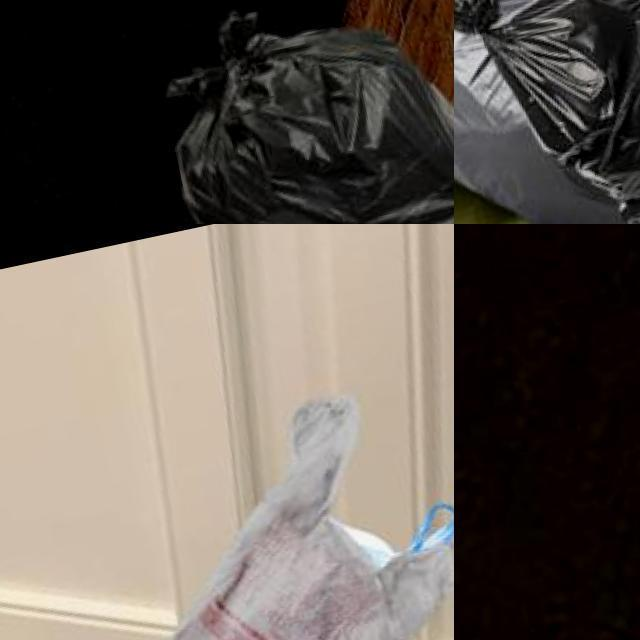waste: (114, 381, 454, 640), (157, 0, 454, 224), (454, 0, 640, 224), (454, 0, 640, 224)
